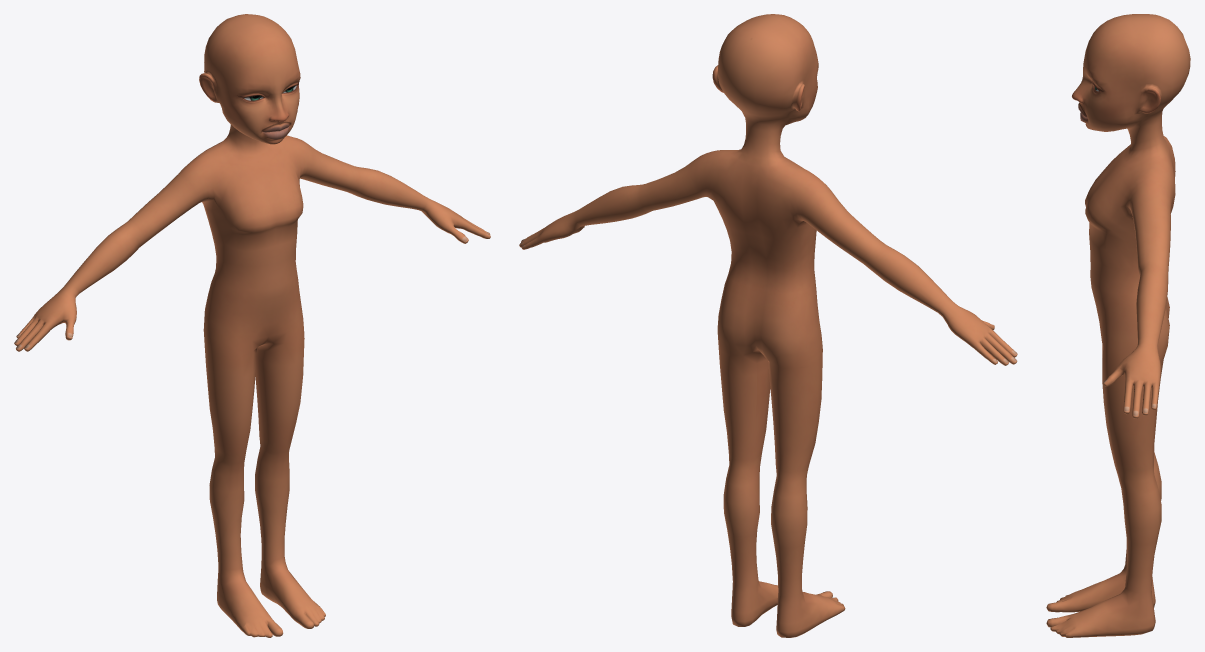
Rendered from frame_0020.glb.
3 views of the same model, side by side, from view 1: azimuth 30°, elevation 25°; view 2: azimuth 150°, elevation 25°; view 3: azimuth 270°, elevation 25° (orthographic). The views are drawn at different scales.
Parts seen in each view (by area): view 1: frame_0020_head_geo; view 2: frame_0020_head_geo; view 3: frame_0020_head_geo.
Boxes of the visible parts, left/top/right/bottom form: frame_0020_head_geo: left=14, top=14, right=490, bottom=637; frame_0020_head_geo: left=519, top=14, right=1017, bottom=637; frame_0020_head_geo: left=1046, top=14, right=1190, bottom=637.
Bounding box in the file's own units: 1.28 × 1.5 × 0.3253.
3 materials, 3 textured.
